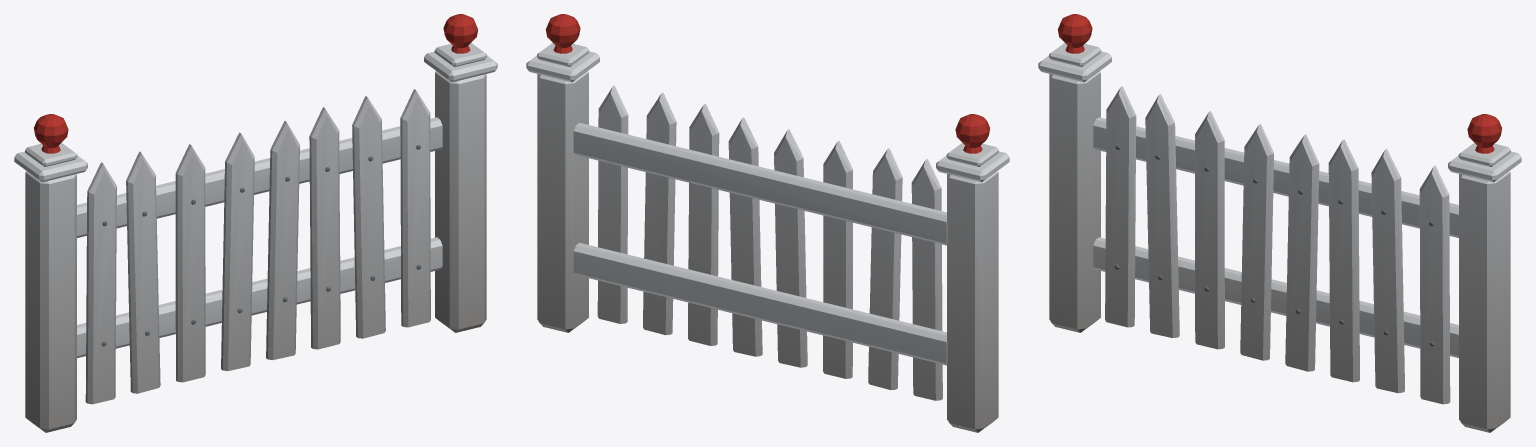
Rendered from low-picket-fence.glb.
3 views of the same model, side by side, from view 1: azimuth 30°, elevation 25°; view 2: azimuth 150°, elevation 25°; view 3: azimuth 330°, elevation 25° (orthographic).
Visible parts, largest first — view 1: low_picket_fence; view 2: low_picket_fence; view 3: low_picket_fence.
Boxes of the visible parts, x1=… form: low_picket_fence: x1=14, y1=14, x2=497, y2=432; low_picket_fence: x1=526, y1=14, x2=1009, y2=432; low_picket_fence: x1=1038, y1=14, x2=1521, y2=432.
Size of the model in its own units: 1.12 by 0.72 by 0.12.
